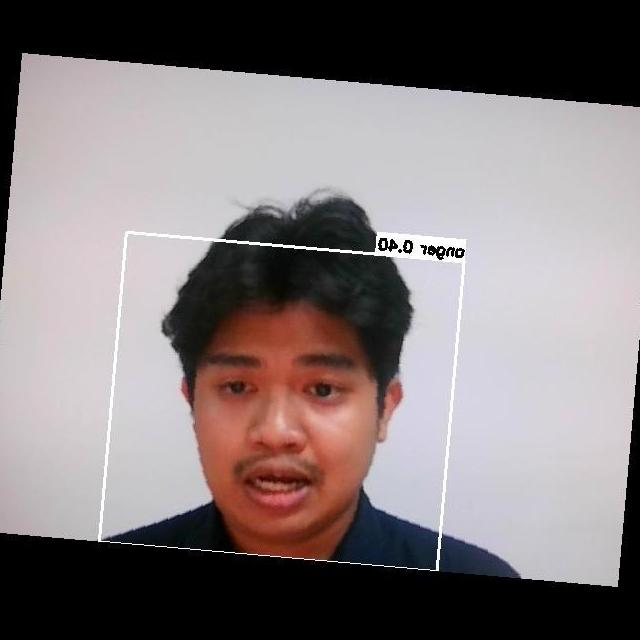Fear: (178, 313, 398, 527)
